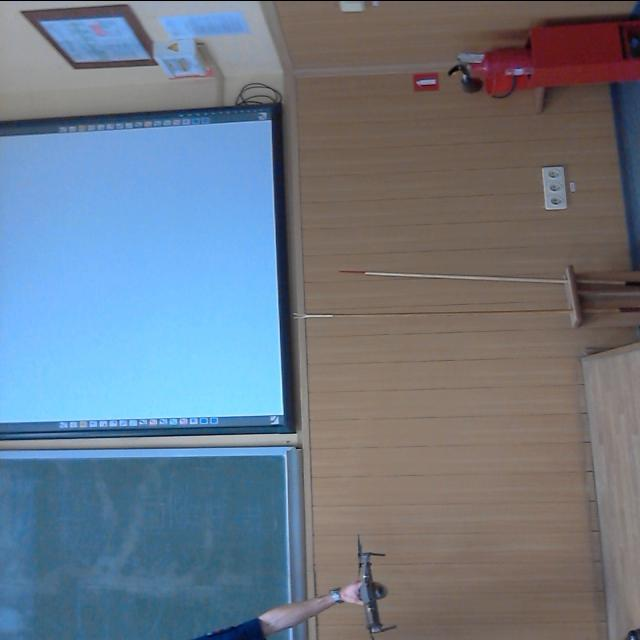drone: (344, 526, 400, 640)
